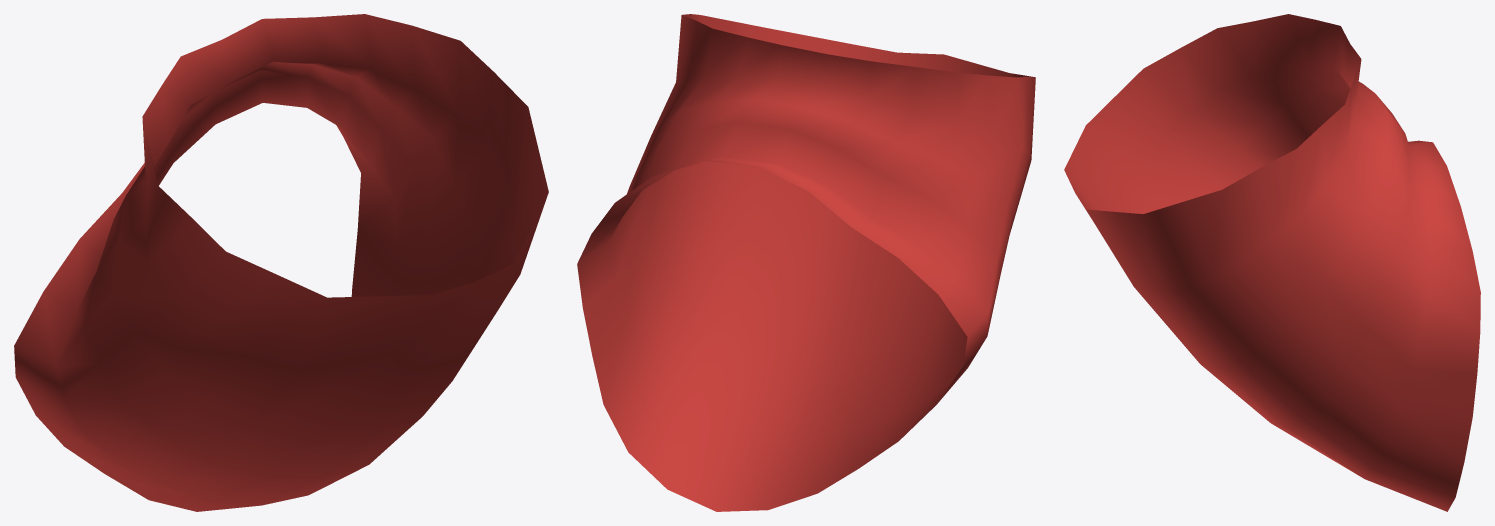
3 renders of one model, left to right at view 1: azimuth 30°, elevation 25°; view 2: azimuth 150°, elevation 25°; view 3: azimuth 270°, elevation 25°, orthographic. The views are drawn at different scales.
Parts seen in each view (by area): view 1: 肺动脉干; view 2: 肺动脉干; view 3: 肺动脉干.
Part boxes in pixels (x1=…): 肺动脉干: x1=14, y1=14, x2=548, y2=511; 肺动脉干: x1=577, y1=14, x2=1035, y2=511; 肺动脉干: x1=1064, y1=14, x2=1480, y2=511.
Size of the model in its own units: 0.0459 by 0.0557 by 0.0485.
